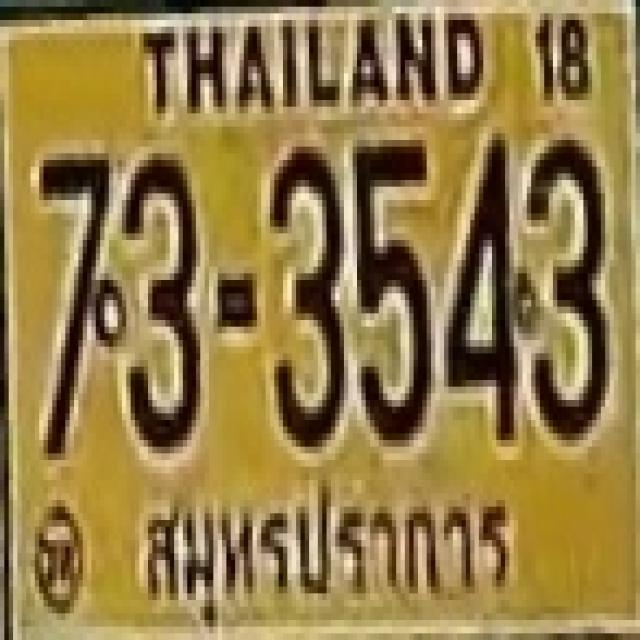3: (523, 134, 605, 434), (117, 153, 196, 447), (270, 144, 340, 444)
4: (444, 130, 514, 437)
5: (352, 133, 427, 440)
7: (37, 150, 111, 450)
SPK: (137, 475, 520, 612)
